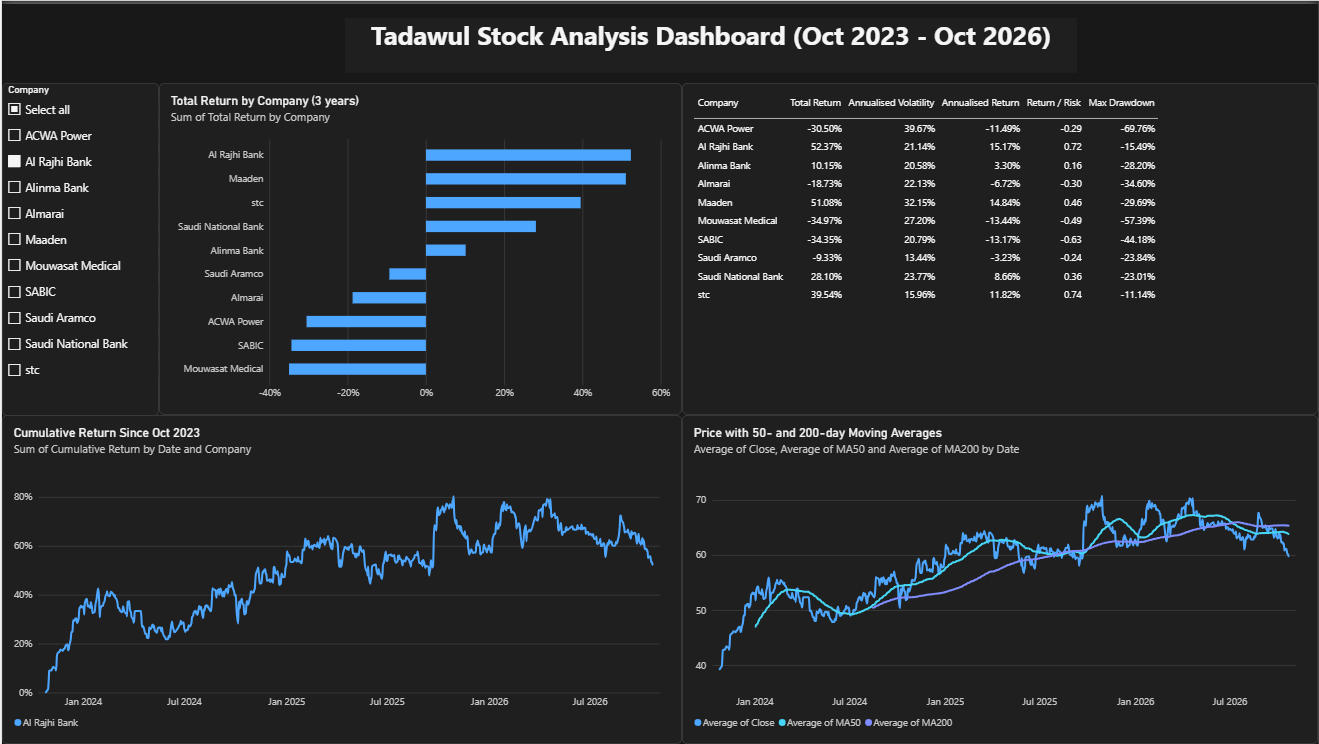

The page's visual inventory and layout, read from the dashboard file:
{"tool":"powerbi","page":{"name":"Page 1","canvas":[1920,1080],"ordinal":0},"visuals":[{"type":"slicer","fields":{"Values":["tadawul_prices.Company"]},"box":[0,115.3,229.1,485.8],"z":0},{"type":"lineChart","title":"Cumulative Return Since Oct 2023","fields":{"Category":["tadawul_prices.Date"],"Series":["tadawul_prices.Company"],"Y":["Sum(tadawul_prices.Cumulative Return)"]},"box":[0,599.6,992.1,480],"z":1000},{"type":"clusteredBarChart","title":"Total Return by Company (3 years)","fields":{"Category":["tadawul_summary.Company"],"Y":["Sum(tadawul_summary.Total Return)"]},"box":[229.1,115.3,763,484.4],"z":2000},{"type":"tableEx","fields":{"Values":["tadawul_summary.Company","tadawul_summary.Total Return","tadawul_summary.Annualised Volatility","tadawul_summary.Annualised Return","tadawul_summary.Return / Risk","tadawul_summary.Max Drawdown"]},"box":[992.1,115.3,927.9,484.4],"z":3000},{"type":"lineChart","title":"Price with 50- and 200-day Moving Averages","fields":{"Category":["tadawul_prices.Date"],"Y":["Avg(tadawul_prices.Close)","Avg(tadawul_prices.MA50)","Avg(tadawul_prices.MA200)"]},"box":[992.1,599.6,927.9,480],"z":4000},{"type":"textbox","box":[500.4,21,1068,80.2],"z":4001}]}

Visuals, with their boxes in screenshot pixels (x1, y1, x2, y2), scaled from the page's 1920x1080 canvas onto the 1319x744 screenshot:
slicer - tadawul_prices.Company: x1=0 y1=79 x2=157 y2=414
"Cumulative Return Since Oct 2023" lineChart: x1=0 y1=413 x2=682 y2=743
"Total Return by Company (3 years)" clusteredBarChart: x1=157 y1=79 x2=682 y2=413
tableEx - tadawul_summary.Company x tadawul_summary.Total Return: x1=682 y1=79 x2=1318 y2=413
"Price with 50- and 200-day Moving Averages" lineChart: x1=682 y1=413 x2=1318 y2=743
textbox: x1=344 y1=14 x2=1077 y2=70
